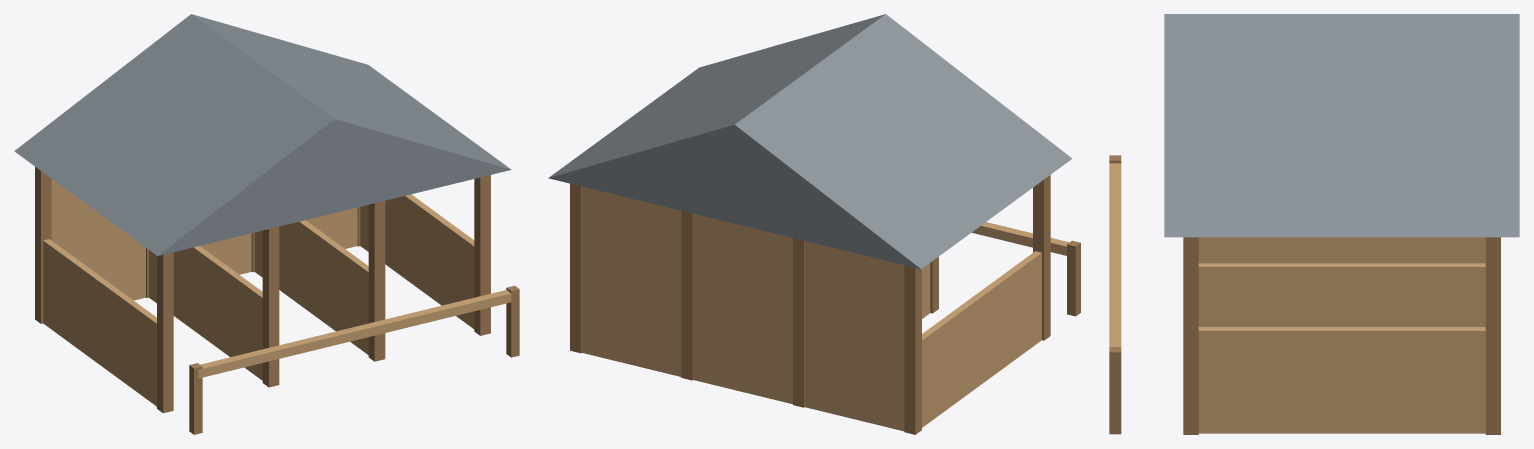
The model's file is cavalry-stables.glb.
3 renders of one model, left to right at view 1: azimuth 30°, elevation 25°; view 2: azimuth 150°, elevation 25°; view 3: azimuth 270°, elevation 25°, orthographic. The views are drawn at different scales.
Visible parts, largest first — view 1: cavalry-stables; view 2: cavalry-stables; view 3: cavalry-stables.
Boxes of the visible parts, x1,y1,x2,y2 form: cavalry-stables: (14, 14, 519, 434); cavalry-stables: (548, 14, 1080, 434); cavalry-stables: (1109, 14, 1519, 434).
Bounding box in the file's own units: 6.7 × 4.7 × 5.43.
